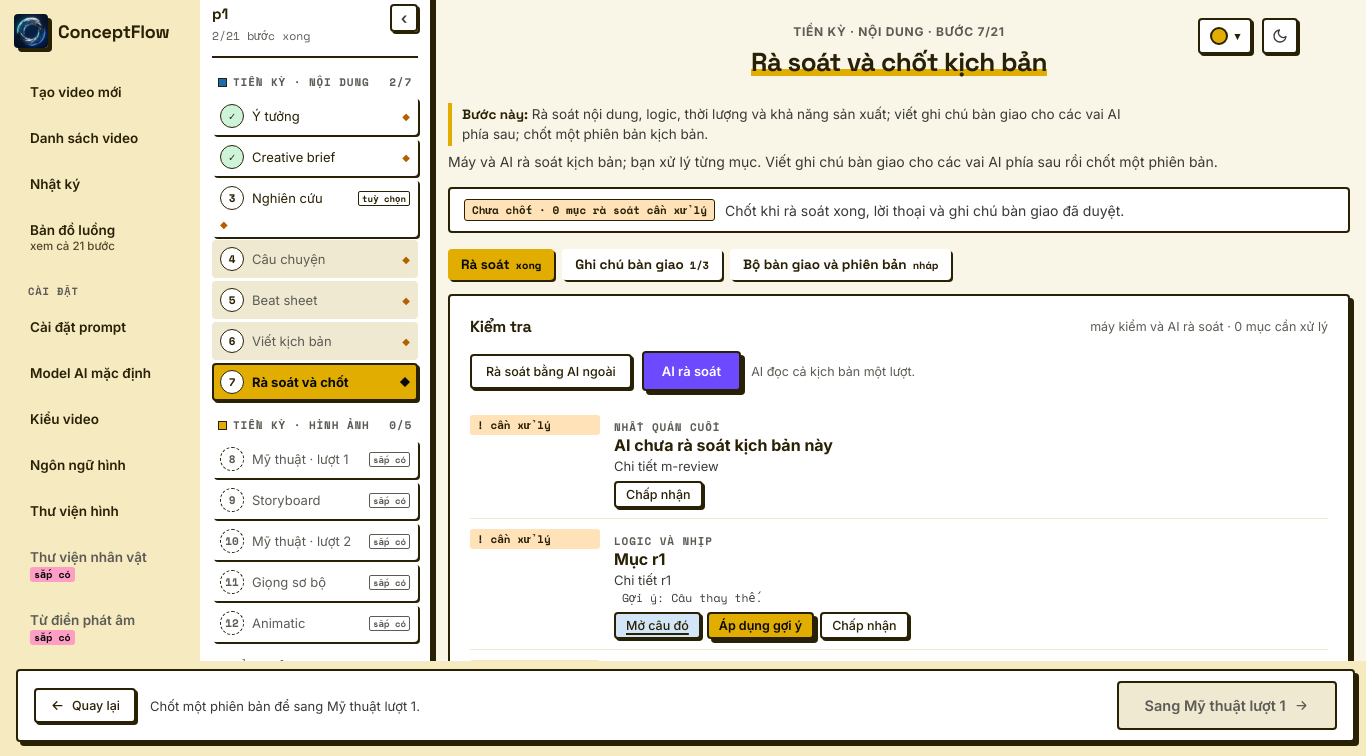
Test: LockStepPage › shows the reason an action failed
Click the tab with test id "lock-tab-package" at (841, 265), box [730, 249, 951, 280]
(page scrolled)
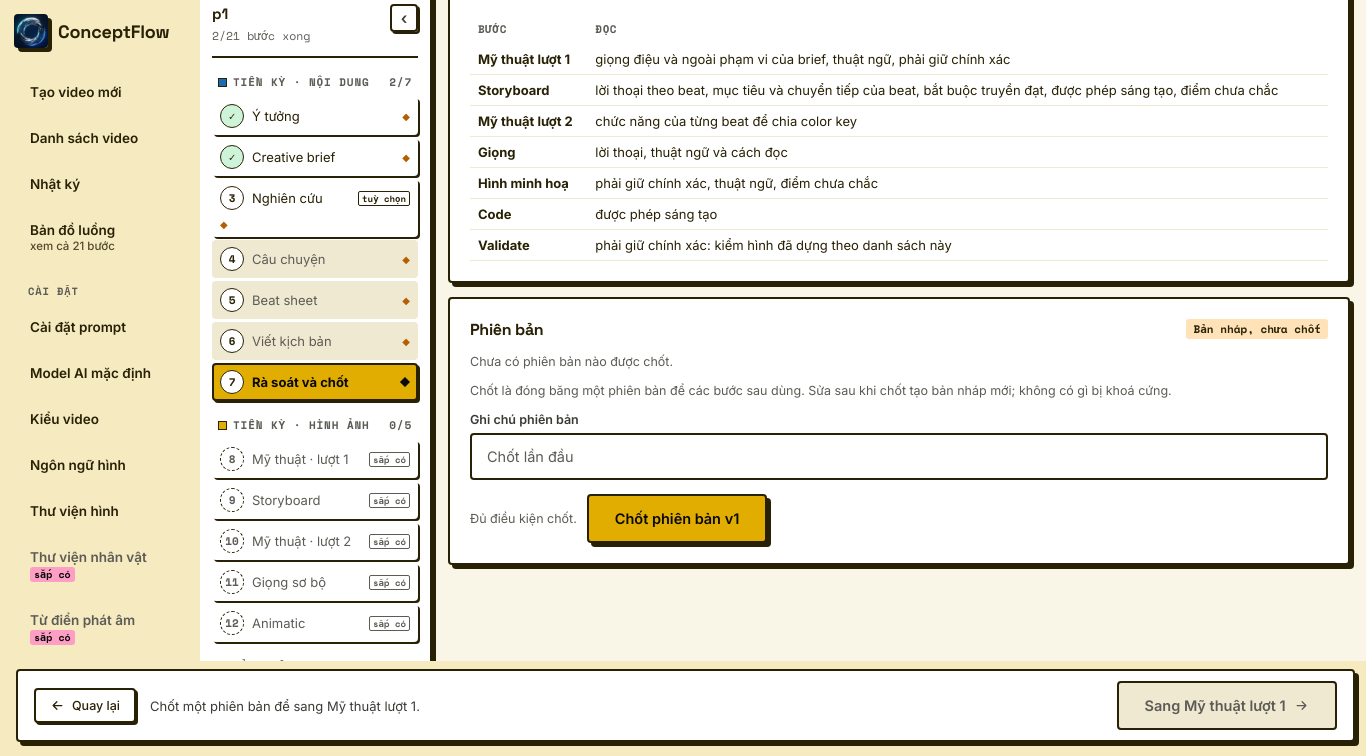
Click the button with test id "lock-run" at (677, 519), box [587, 494, 767, 543]
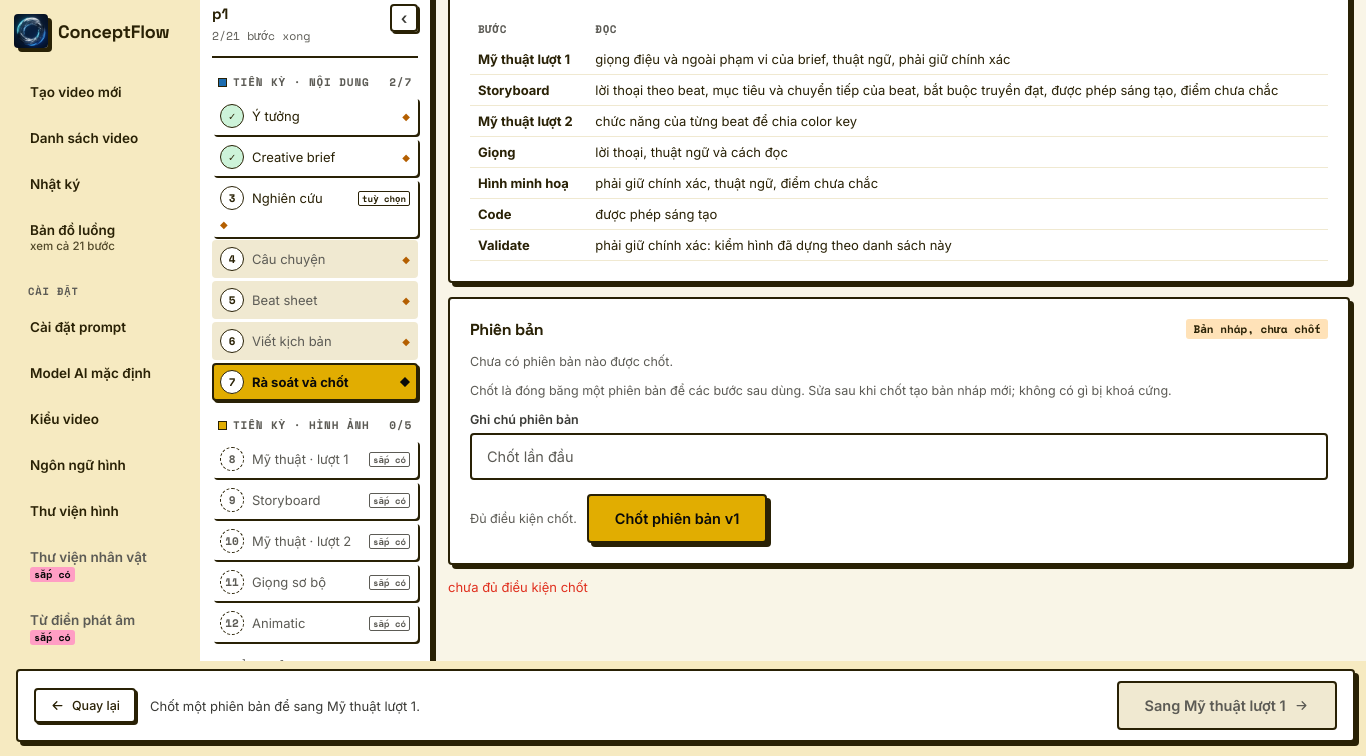
Expected: the message with test id "lock-error" reads "chưa đủ điều kiện chốt", [448, 579, 588, 595]
